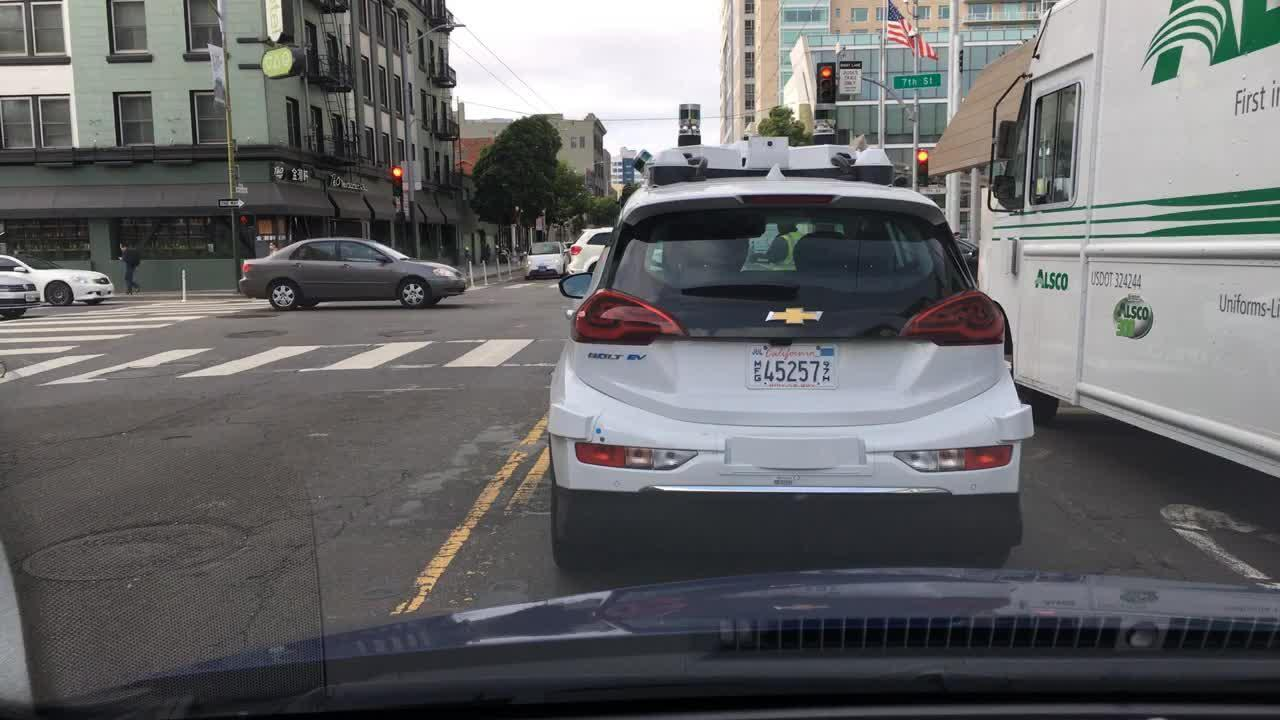chevrolet: (745, 295, 843, 336)
